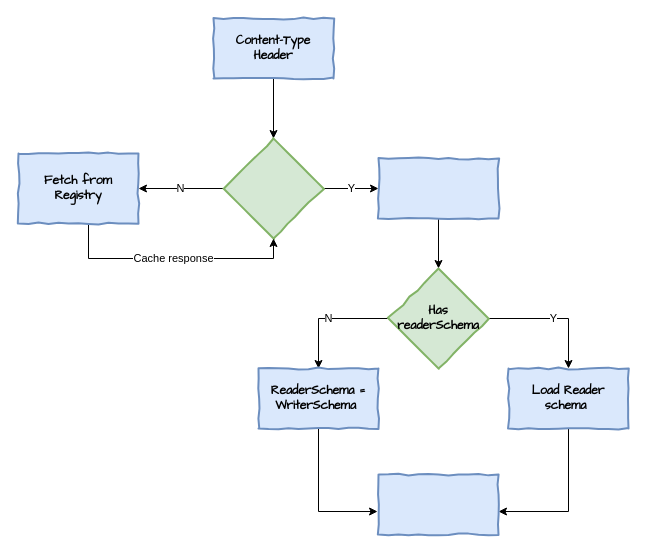
Some shapes in this 646 by 552 pixel diagram are drawn without their labels. Each missing label, with the centre of its shape:
"Cached" goes at [273,188].
"Deserializer (writer,reader)" goes at [438,504].
"Set writer Schema" goes at [438,188].
